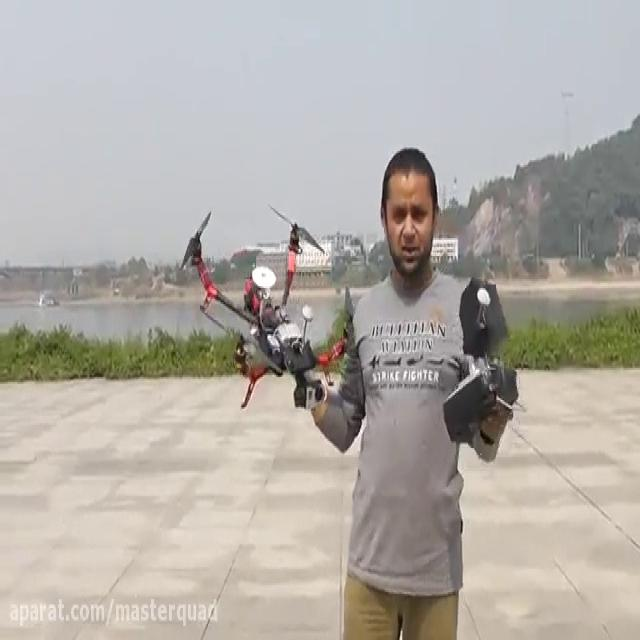drone: (176, 198, 356, 412)
